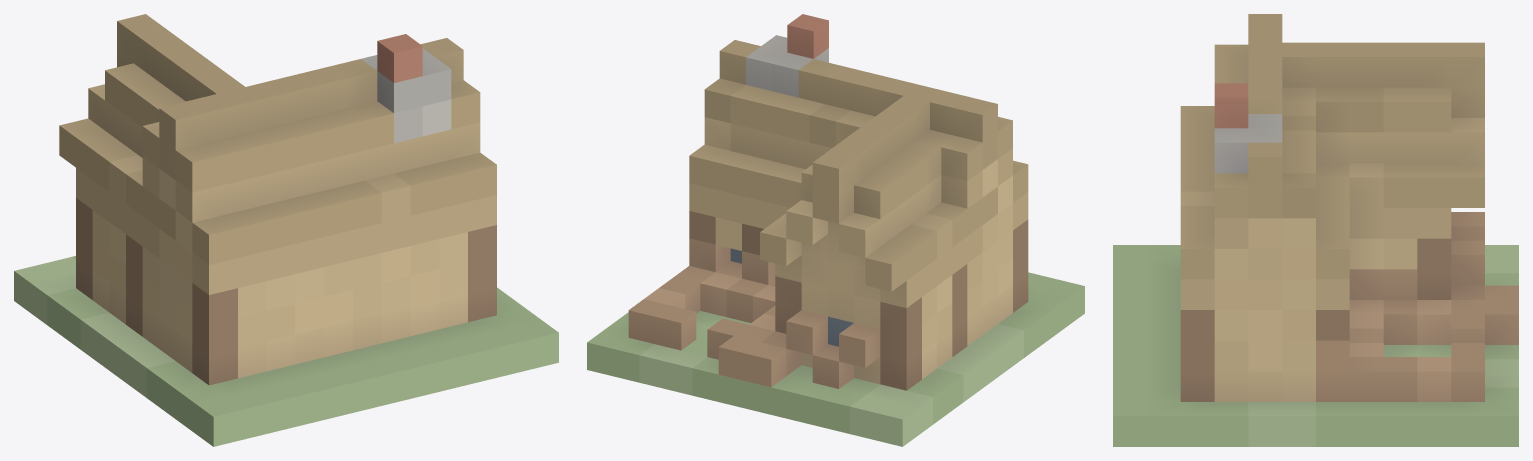
The model's file is house_settlers.v2.lite.glb.
3 renders of one model, left to right at view 1: azimuth 30°, elevation 25°; view 2: azimuth 150°, elevation 25°; view 3: azimuth 270°, elevation 25°, orthographic. The views are drawn at different scales.
Visible parts, largest first — view 1: house_settlers; view 2: house_settlers; view 3: house_settlers.
Boxes of the visible parts, x1,y1,x2,y2 form: house_settlers: (14, 14, 558, 446); house_settlers: (587, 14, 1084, 446); house_settlers: (1113, 14, 1518, 446).
Bounding box in the file's own units: 3 × 2.5 × 3.
